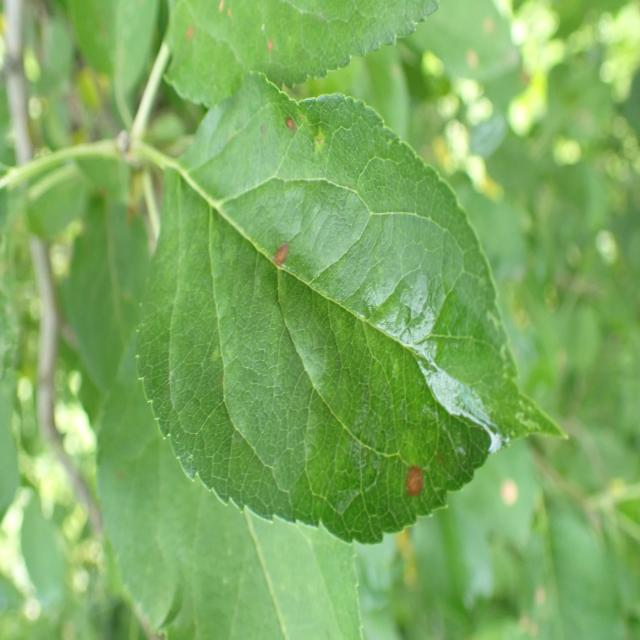frog-eye-leaf-spot: (132, 73, 568, 545), (162, 0, 442, 110)
